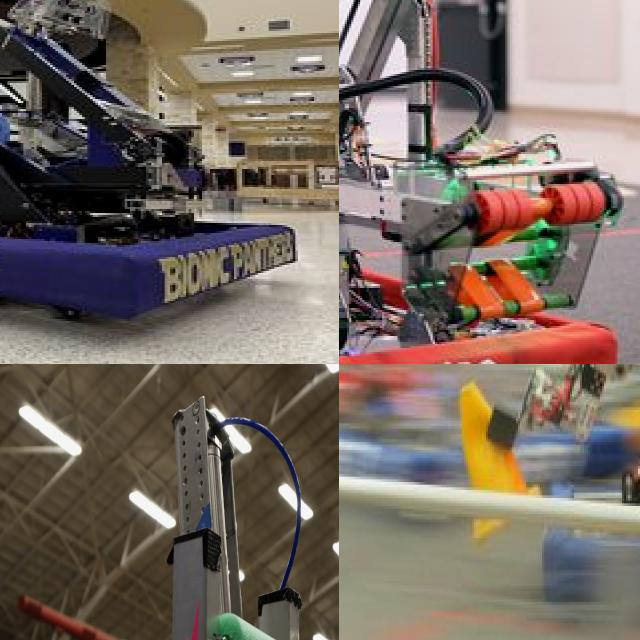FRC-Robots: (0, 0, 339, 345), (339, 0, 640, 364), (126, 364, 339, 640), (446, 364, 640, 608)
